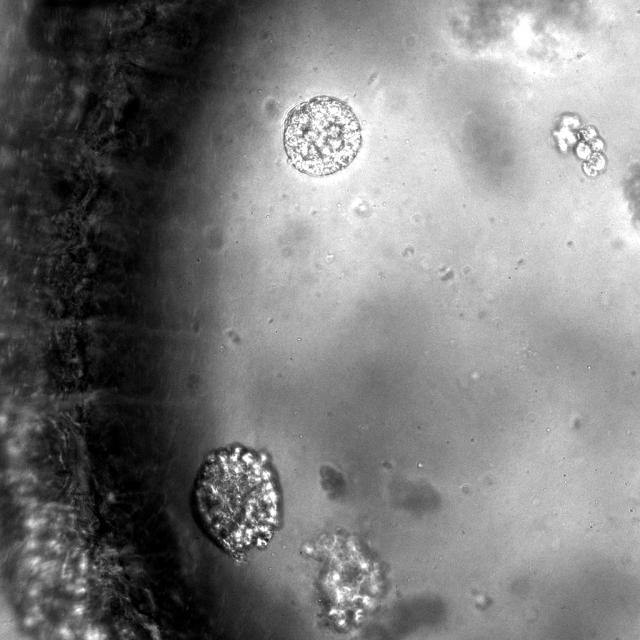organoid: (192, 443, 281, 561), (303, 529, 386, 632), (282, 96, 361, 176), (552, 112, 608, 177), (320, 465, 346, 498)
